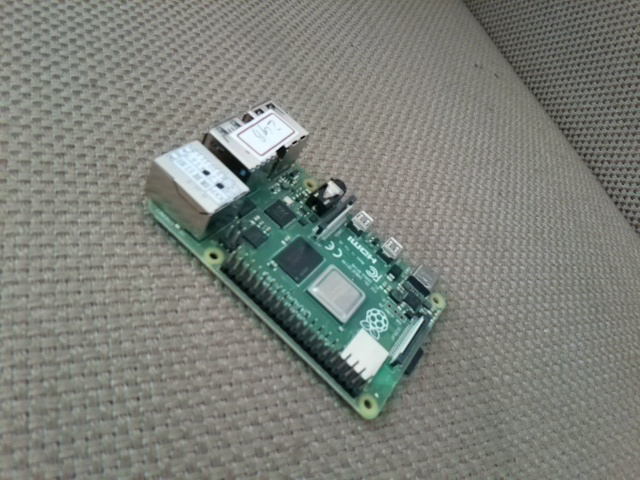Pi4: (140, 95, 450, 426)
